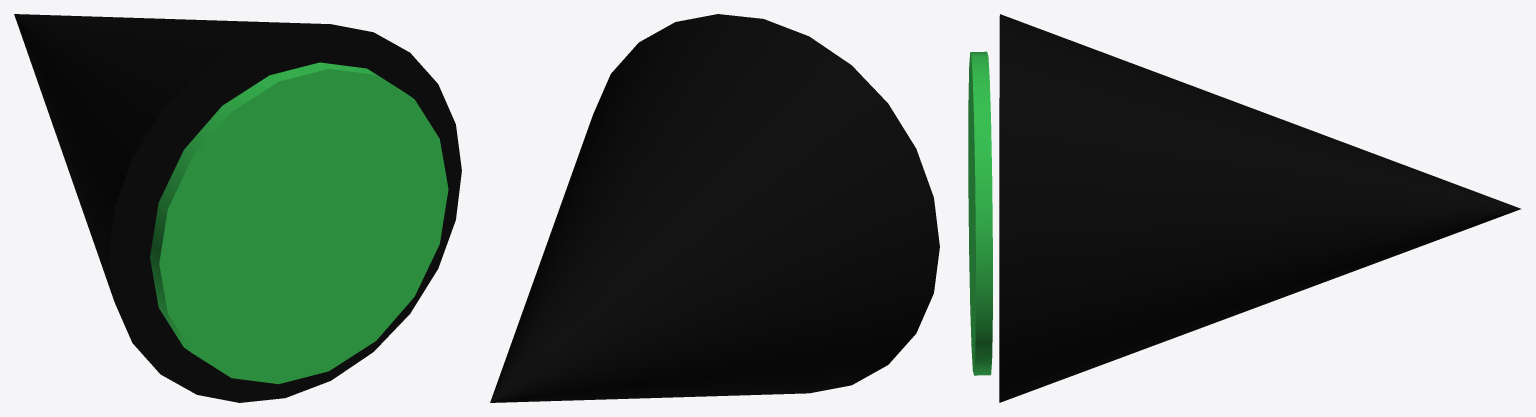
The picture shows the model from 3 angles, left to right: view 1: azimuth 30°, elevation 25°; view 2: azimuth 150°, elevation 25°; view 3: azimuth 270°, elevation 25°; orthographic projection. The views are drawn at different scales.
Visible parts, largest first — view 1: Cylinder005, Cone004; view 2: Cone004; view 3: Cone004, Cylinder005.
Boxes of the visible parts, box(x1,y1,x2,y2) form: Cylinder005: box(150, 62, 448, 384); Cone004: box(14, 14, 461, 402); Cone004: box(490, 14, 939, 402); Cone004: box(999, 14, 1520, 402); Cylinder005: box(968, 51, 992, 375).
Size of the model in its own units: 19.41 by 19.41 by 27.51.
